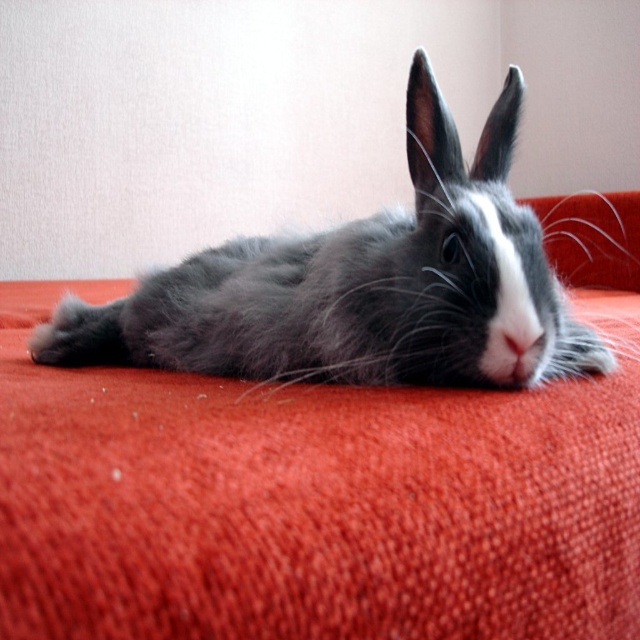Rabbit: (27, 43, 639, 392)
